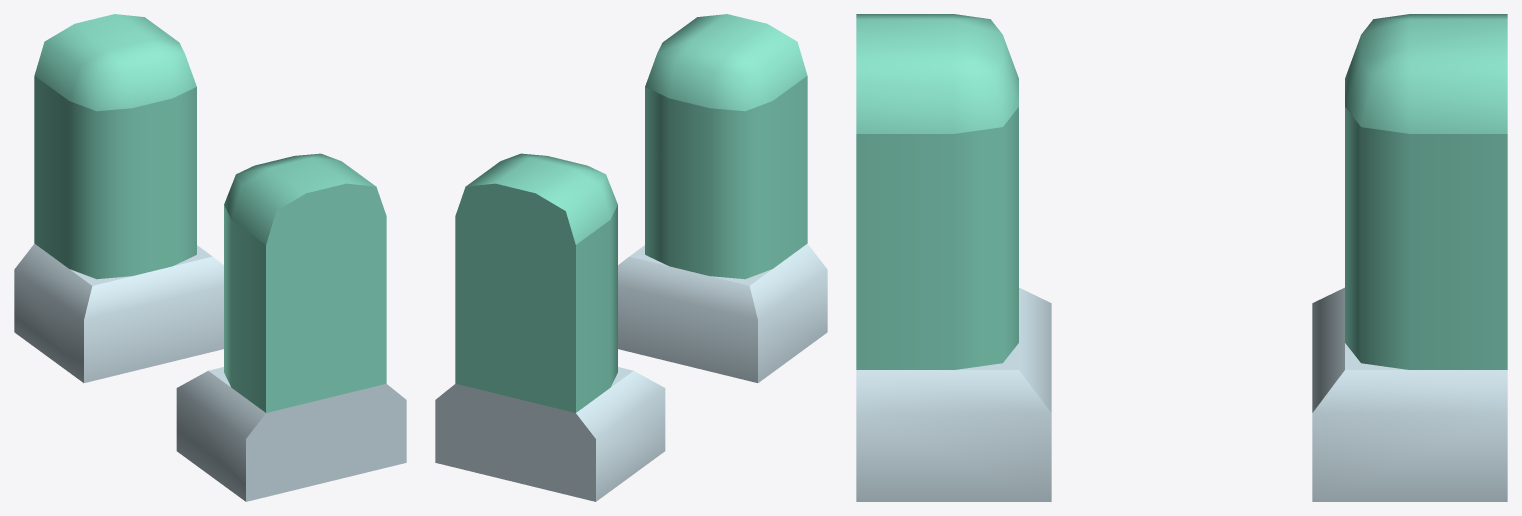
The picture shows the model from 3 angles, left to right: view 1: azimuth 30°, elevation 25°; view 2: azimuth 150°, elevation 25°; view 3: azimuth 270°, elevation 25°; orthographic projection. The views are drawn at different scales.
Parts seen in each view (by area): view 1: hedgeLargeGate; view 2: hedgeLargeGate; view 3: hedgeLargeGate.
Part boxes in pixels (x1,y1,x2,y2): hedgeLargeGate: (14, 14, 406, 501); hedgeLargeGate: (435, 14, 827, 501); hedgeLargeGate: (856, 14, 1507, 501).
Size of the model in its own units: 0.4 by 0.7 by 1.
